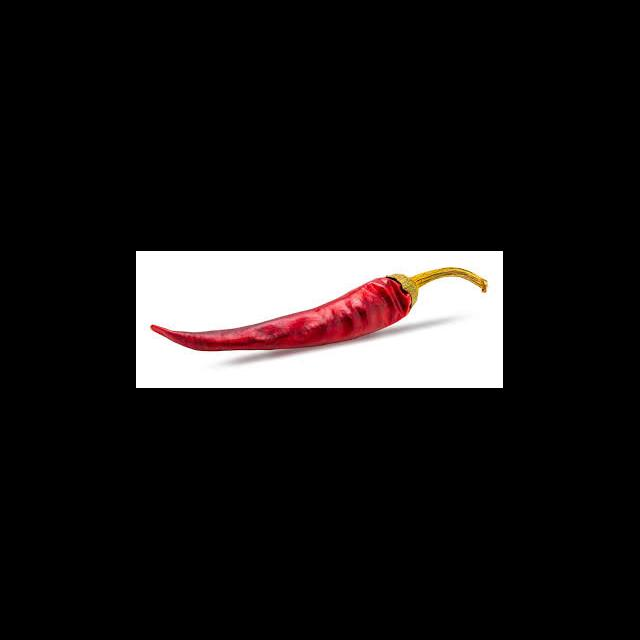chili_pepper: (152, 280, 494, 352)
